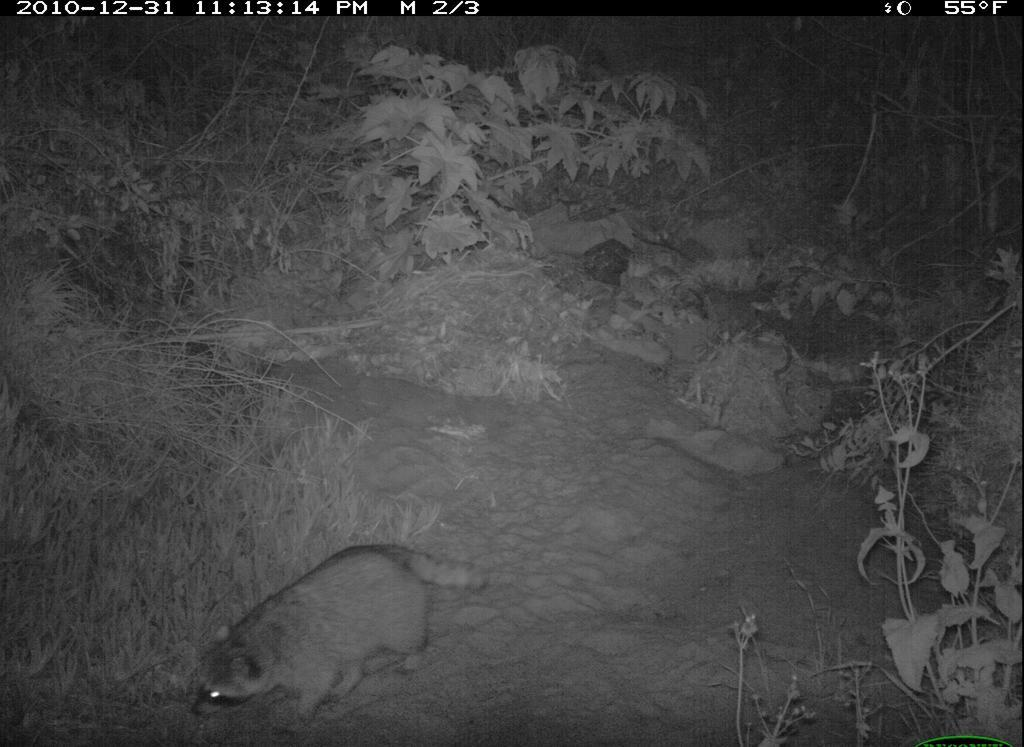raccoon: (161, 532, 533, 738)
